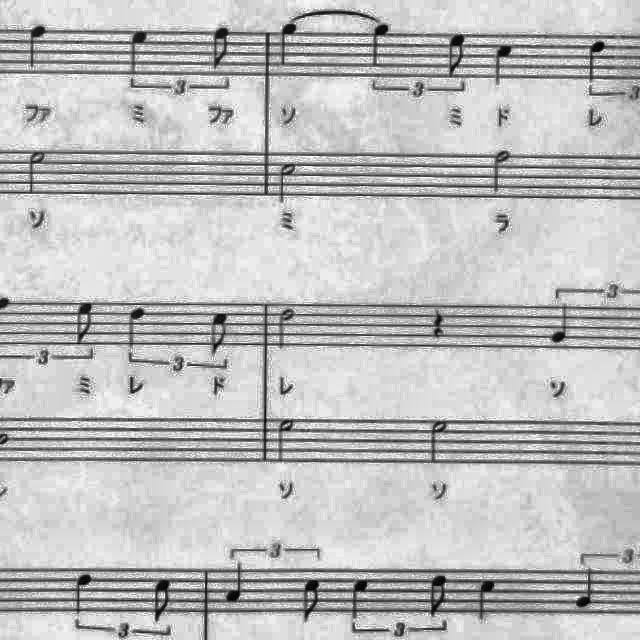Eighth-note: (442, 28, 474, 84), (204, 306, 236, 359), (69, 296, 101, 348), (206, 21, 237, 74), (298, 574, 329, 626), (148, 576, 178, 626), (423, 571, 452, 621)
Half-note: (424, 414, 454, 466), (488, 144, 516, 198), (23, 145, 51, 199), (273, 414, 301, 466), (274, 157, 302, 207), (272, 303, 300, 353)
Quarter-note: (122, 23, 154, 78), (488, 39, 520, 93), (23, 19, 53, 75), (582, 36, 614, 88), (120, 300, 152, 352), (272, 18, 304, 70), (367, 20, 398, 72), (569, 565, 601, 613), (547, 298, 577, 348), (473, 574, 503, 624), (221, 562, 251, 610), (70, 570, 98, 620), (346, 574, 374, 622)
Quarter-rest: (424, 304, 452, 346)
